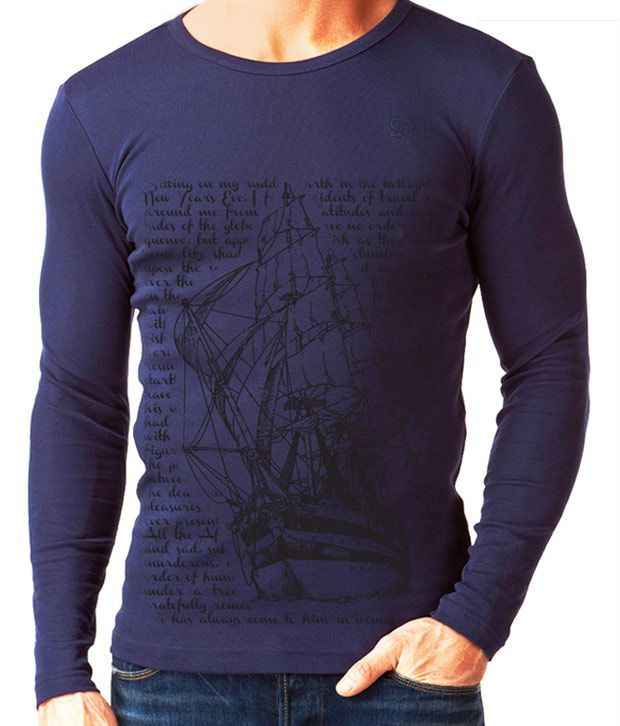T-Shirt: (25, 5, 592, 675)
